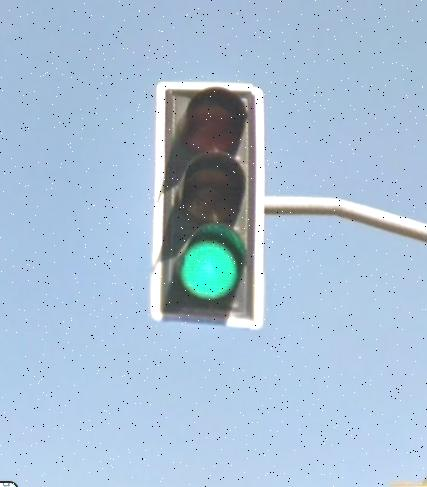greenlight: (155, 95, 261, 325)
